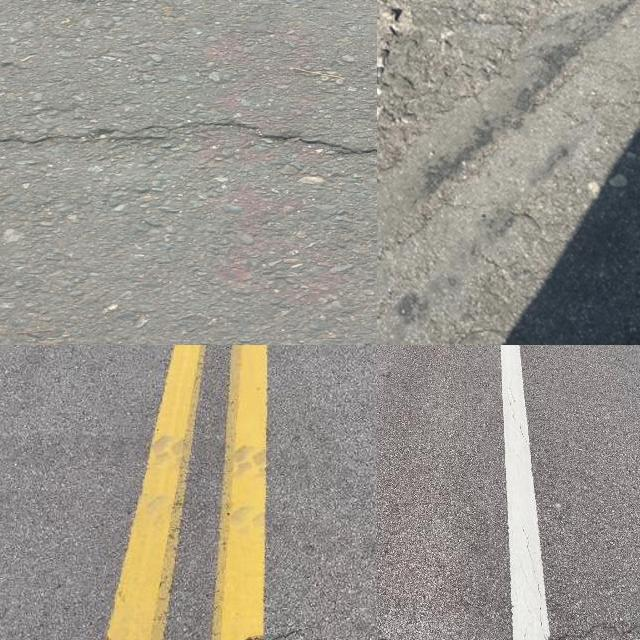Lubang: (377, 0, 419, 89)
Melintang: (0, 101, 377, 169)
